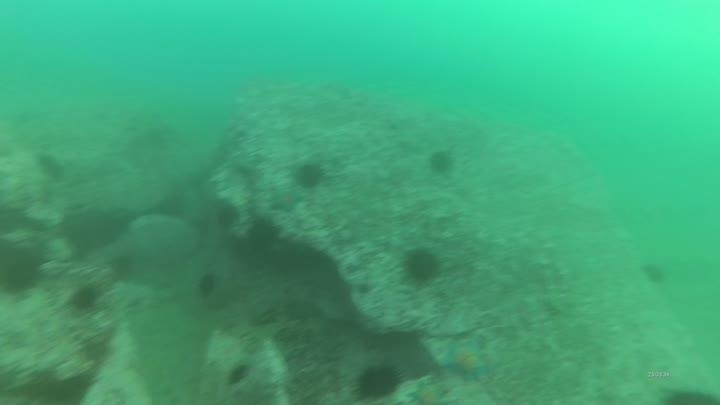echinus: (1, 241, 46, 298), (352, 361, 404, 402), (399, 245, 443, 286), (244, 216, 281, 256), (292, 159, 327, 191), (67, 282, 102, 314), (107, 250, 140, 282), (425, 148, 457, 177), (212, 200, 241, 232), (194, 270, 221, 301), (640, 260, 669, 287), (33, 151, 53, 170), (48, 162, 67, 178)
starfish: (438, 335, 492, 384), (266, 186, 306, 214), (408, 381, 449, 404)
